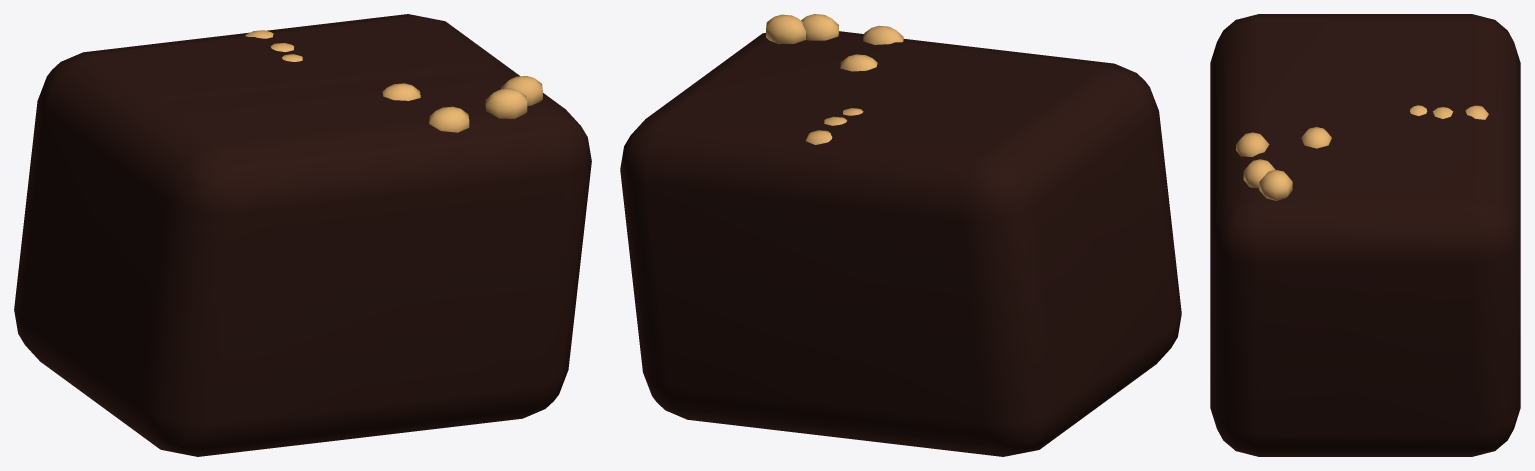
Rendered from chocolate-chunk.glb.
3 renders of one model, left to right at view 1: azimuth 30°, elevation 25°; view 2: azimuth 150°, elevation 25°; view 3: azimuth 270°, elevation 25°, orthographic. The views are drawn at different scales.
Visible parts, largest first — view 1: Broken chocolate, Roasted hazelnut.008, Roasted hazelnut.009, Roasted hazelnut; view 2: Broken chocolate, Roasted hazelnut, Roasted hazelnut.008, Roasted hazelnut.009; view 3: Broken chocolate, Roasted hazelnut, Roasted hazelnut.009, Roasted hazelnut.008, Roasted hazelnut.010.
Boxes of the visible parts, left/top/right/bottom form: Broken chocolate: left=14, top=14, right=591, bottom=456; Roasted hazelnut.008: left=485, top=88, right=527, bottom=118; Roasted hazelnut.009: left=429, top=106, right=469, bottom=132; Roasted hazelnut: left=501, top=76, right=542, bottom=105; Broken chocolate: left=620, top=31, right=1181, bottom=456; Roasted hazelnut: left=766, top=14, right=805, bottom=43; Roasted hazelnut.008: left=801, top=14, right=838, bottom=40; Roasted hazelnut.009: left=863, top=25, right=903, bottom=44; Broken chocolate: left=1210, top=14, right=1520, bottom=456; Roasted hazelnut: left=1259, top=170, right=1292, bottom=200; Roasted hazelnut.009: left=1236, top=132, right=1269, bottom=156; Roasted hazelnut.008: left=1243, top=159, right=1275, bottom=188; Roasted hazelnut.010: left=1301, top=127, right=1331, bottom=148.
Size of the model in its own units: 1.68 by 1.24 by 1.15.
